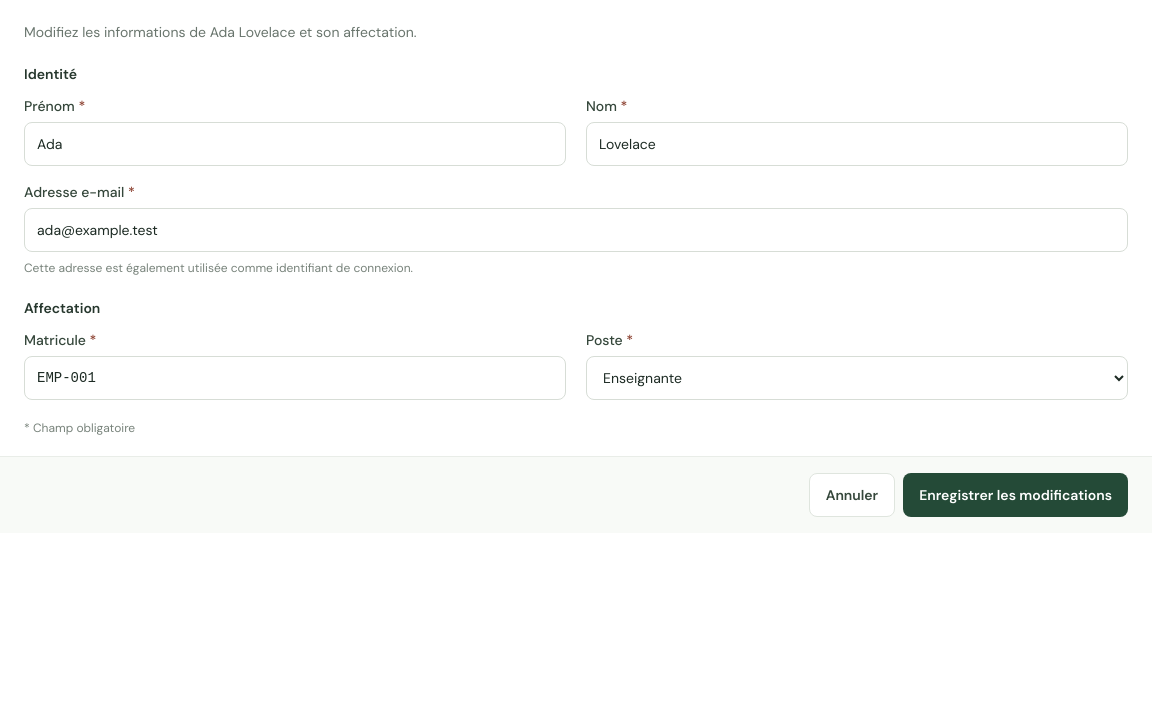
Test case: EmployeeFormComponent › conserve les modifications saisies après un conflit
The width and height of the screenshot is (1152, 720).
Replace the text in the field named "firstName" with " Ada " at point(295, 144), box 24,122 -> 566,166
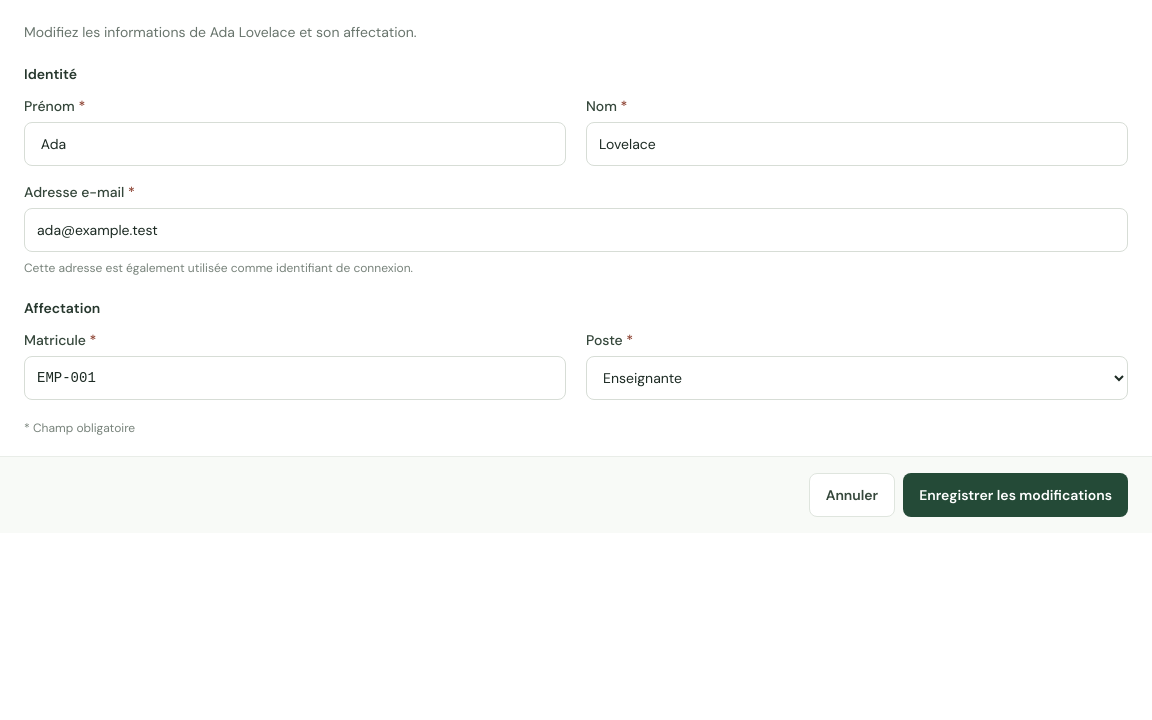
Replace the text in the field labelled "Nom" with " Lovelace " at point(857, 144), box 586,122 -> 1128,166
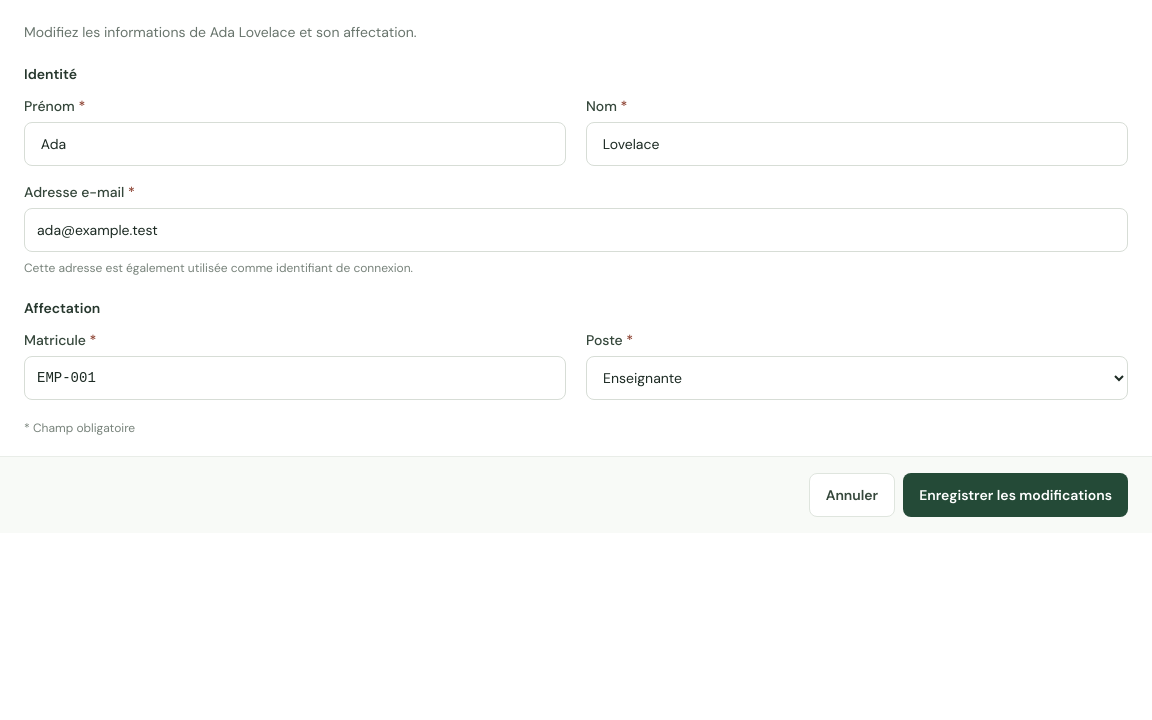
Replace the text in the field named "email" with "nouvelle@example.test" at point(576, 230), box 24,208 -> 1128,252
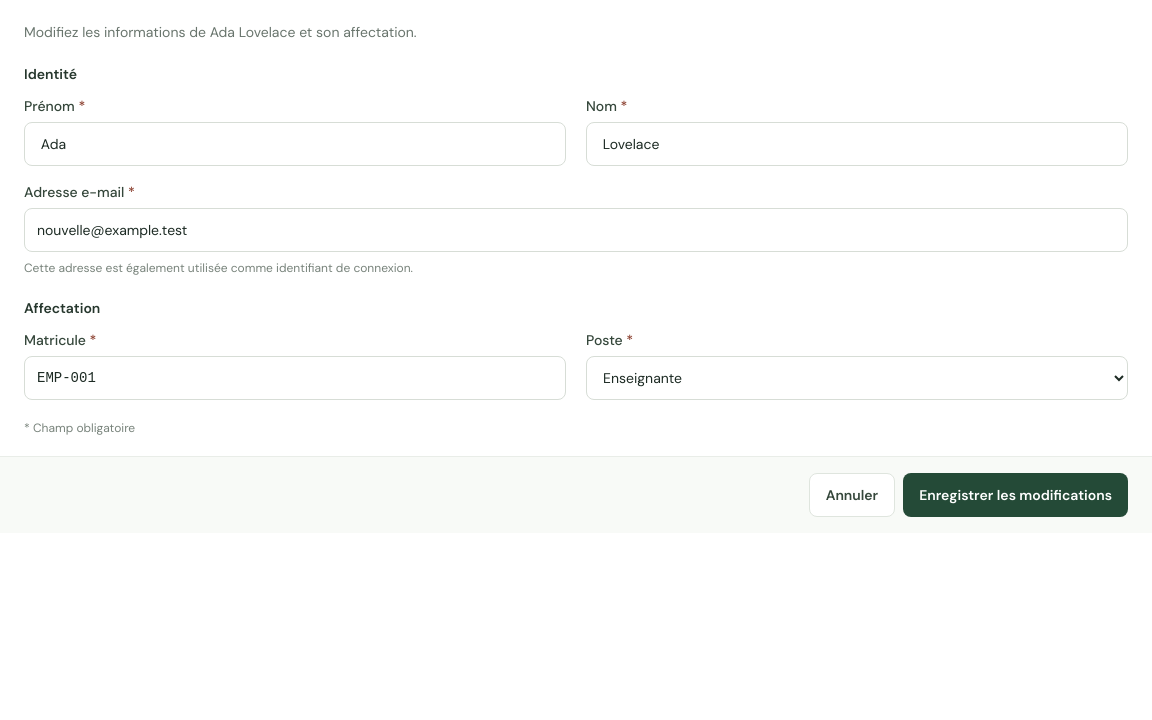
Replace the text in the field labelled "Matricule" with " EMP-001 " at point(295, 378), box 24,356 -> 566,400
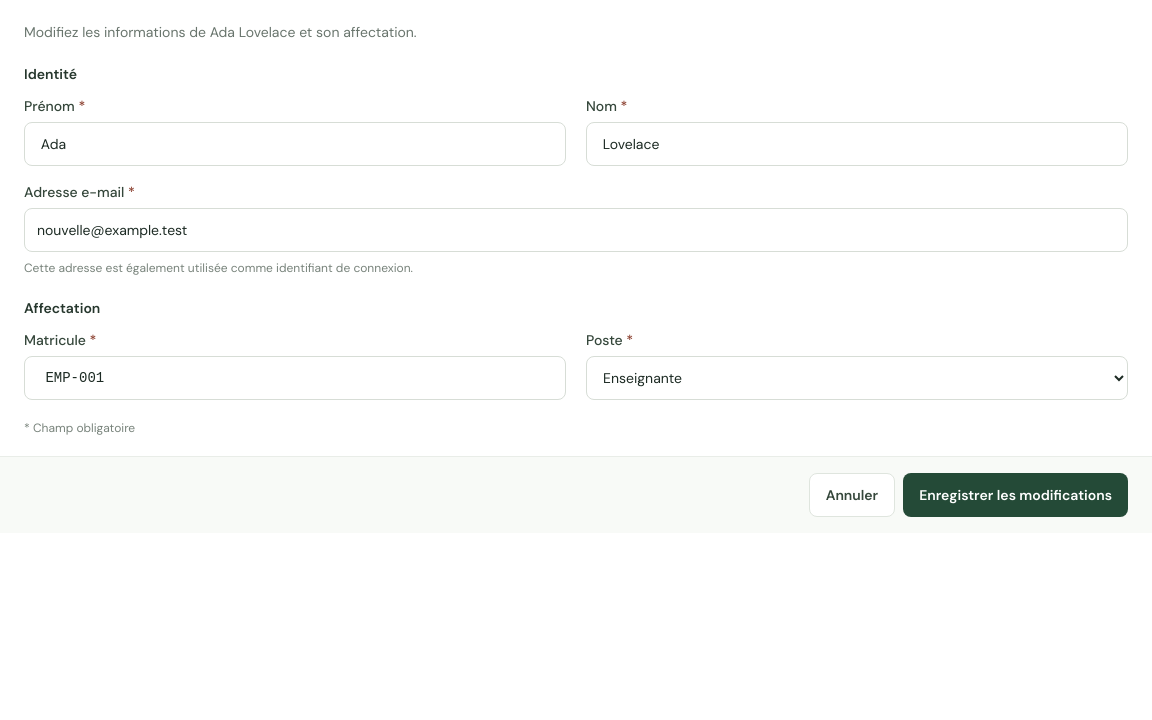
Select "Enseignante" in the dropdown labelled "Poste" at point(857, 378), box 586,356 -> 1128,400
Submit the form
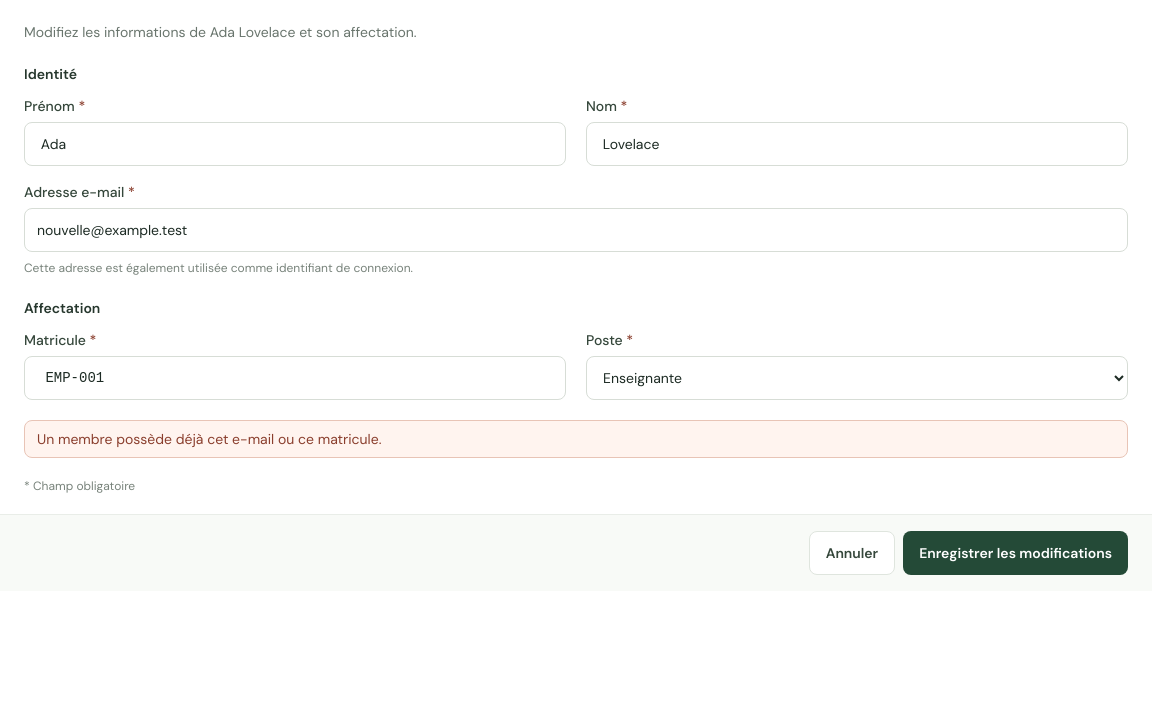
Result: the message with class "form-error" shows "déjà cet e-mail" at 37,430 -> 382,448
